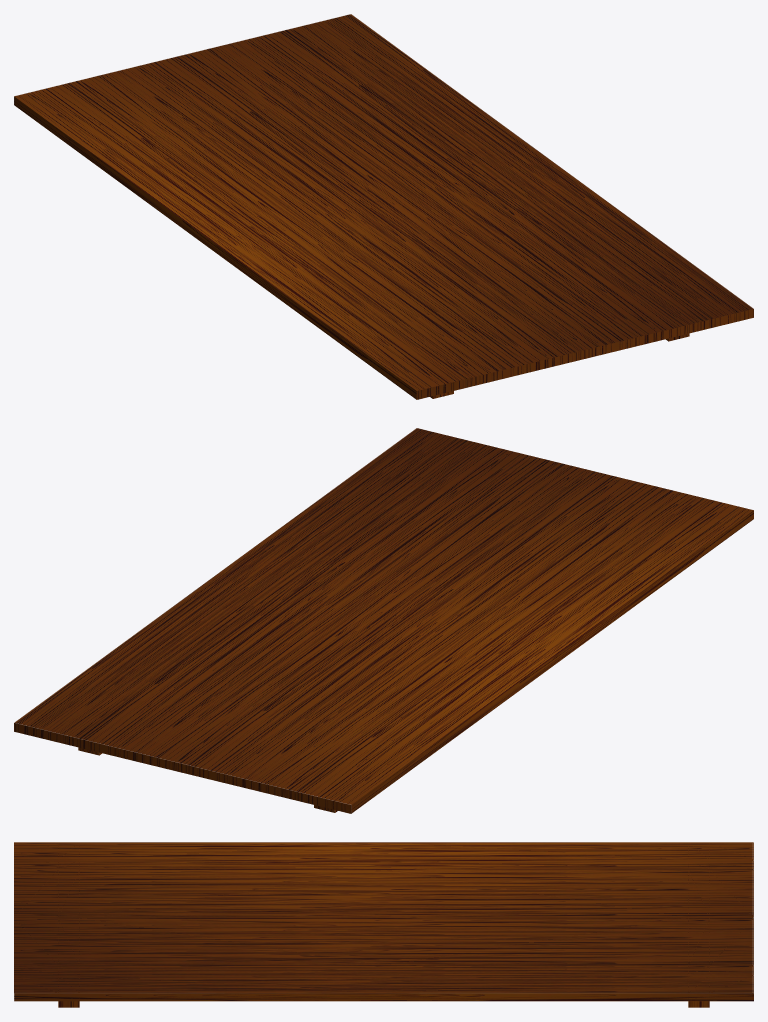
The model's file is ceiling.obj.
The picture shows the model from 3 angles, top to bottom: view 1: azimuth 30°, elevation 25°; view 2: azimuth 150°, elevation 25°; view 3: azimuth 270°, elevation 25°; orthographic projection. The views are drawn at different scales.
Parts seen in each view (by area): view 1: Base_Wood; view 2: Base_Wood; view 3: Base_Wood.
Part boxes in pixels (x1=…): Base_Wood: x1=14, y1=14, x2=753, y2=399; Base_Wood: x1=14, y1=428, x2=753, y2=813; Base_Wood: x1=14, y1=842, x2=753, y2=1007.
Size of the model in its own units: 3.99 by 0.4 by 8.25.
